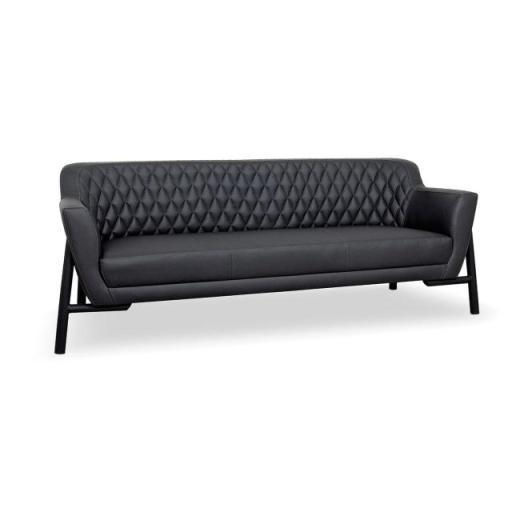sofa: (40, 139, 504, 372)
